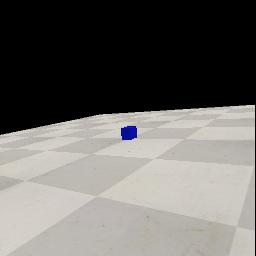box: (121, 126, 137, 140)
